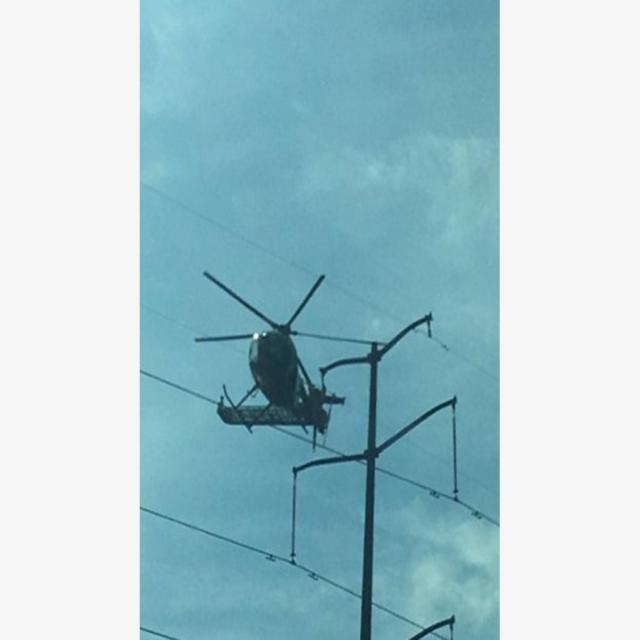helicopter: (188, 274, 349, 432)
